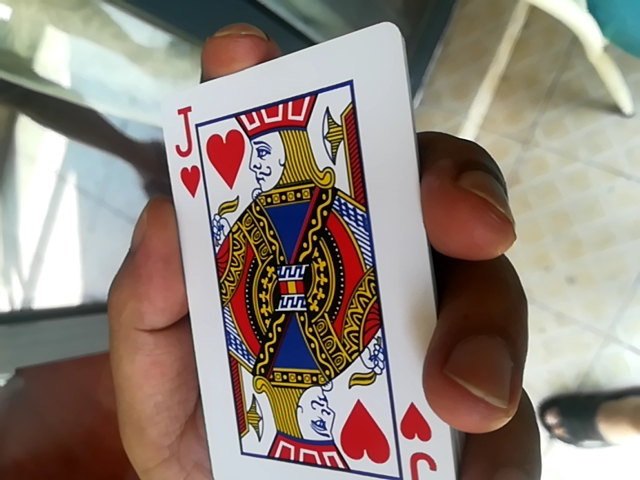hx j: (166, 30, 447, 473)
